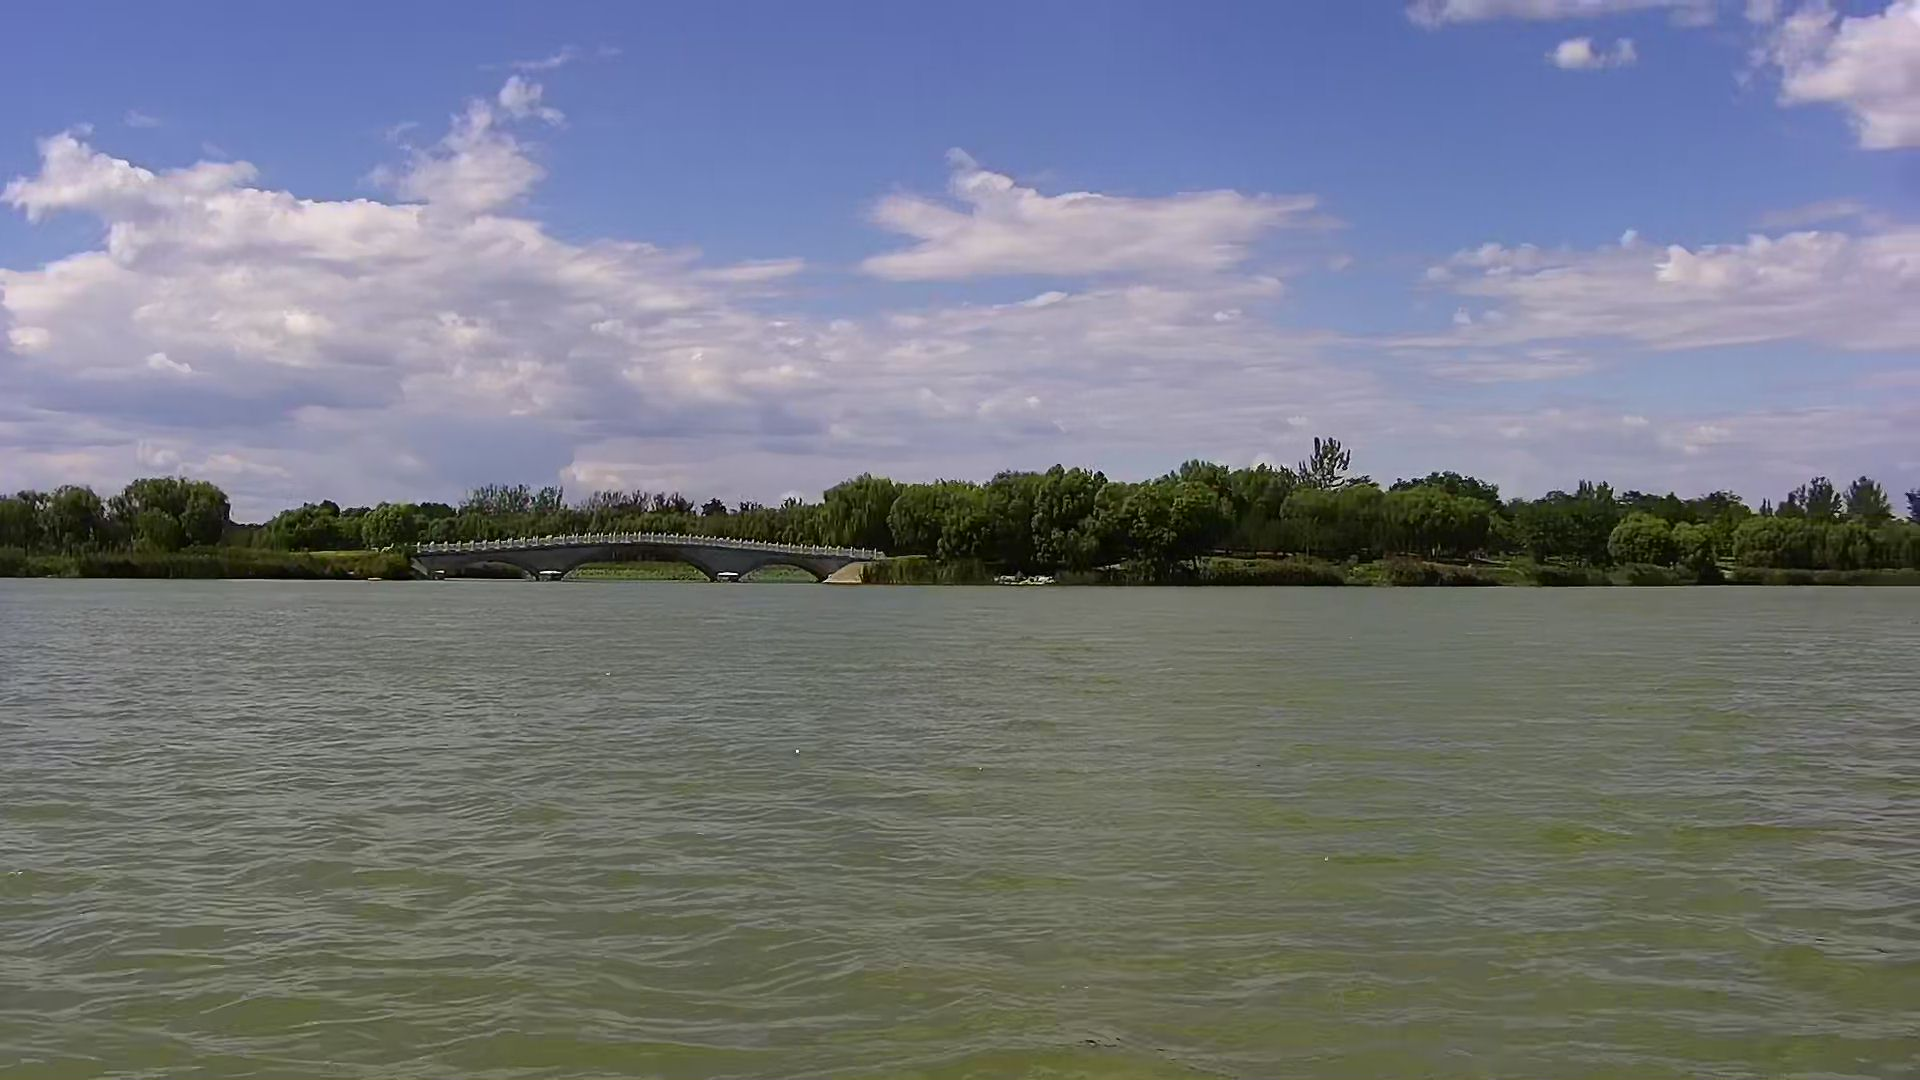bridge: (413, 531, 872, 582)
